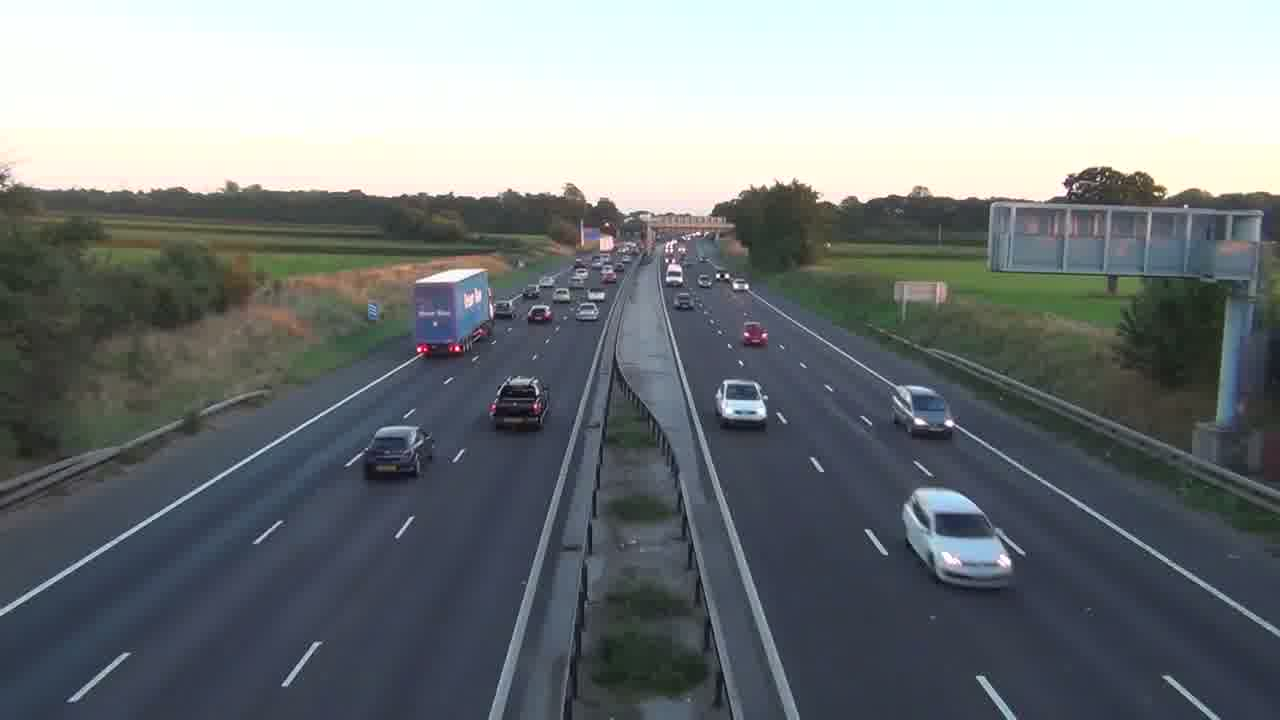bus: (414, 267, 495, 357)
car: (901, 486, 1017, 589), (364, 425, 435, 478), (489, 376, 550, 430), (714, 378, 769, 429), (741, 320, 768, 348), (575, 302, 599, 324), (527, 304, 553, 323)
truck: (890, 383, 957, 438)
